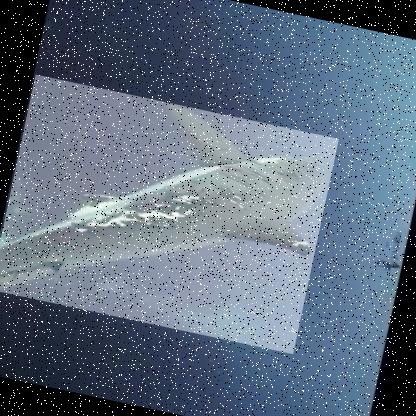white-shark: (0, 72, 338, 354)
